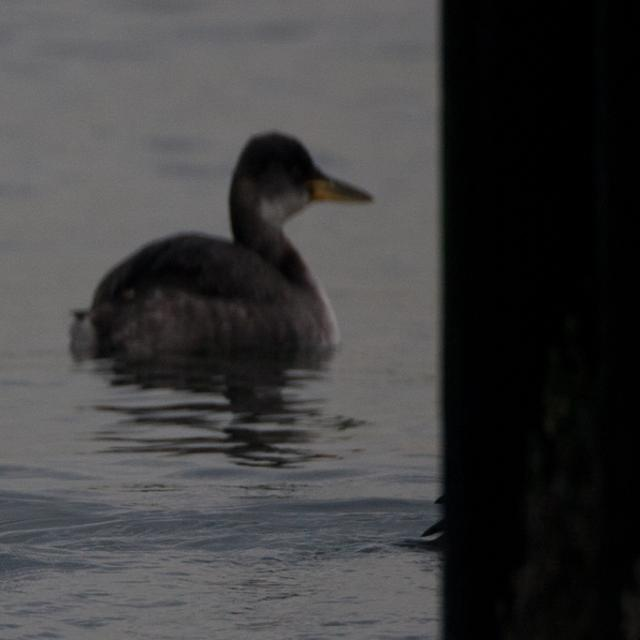bird: (65, 109, 364, 405)
